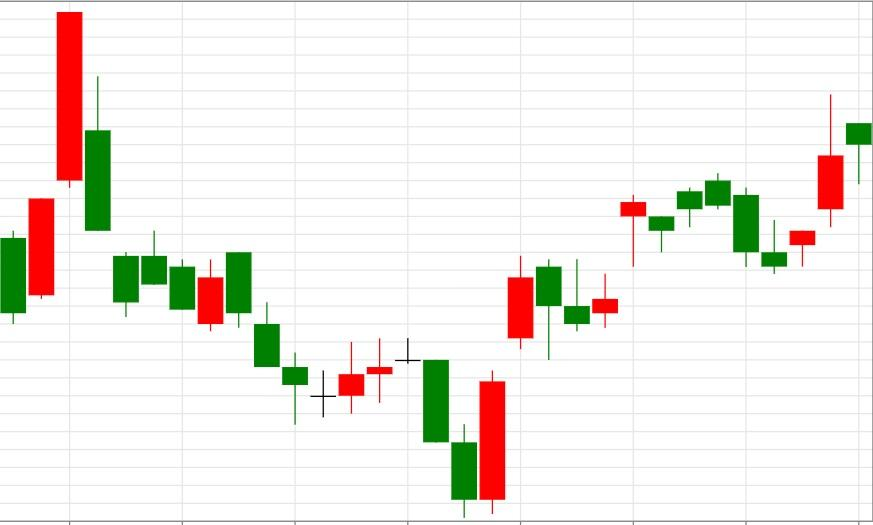bullish_engulfing_rise: (396, 336, 506, 519)
three_black_crows_fall: (197, 250, 309, 425)
